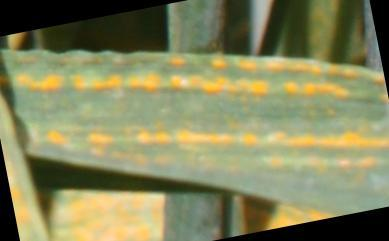Wheat: (19, 74, 364, 145), (253, 154, 366, 182), (368, 78, 385, 197), (170, 61, 333, 70), (114, 150, 176, 168)
